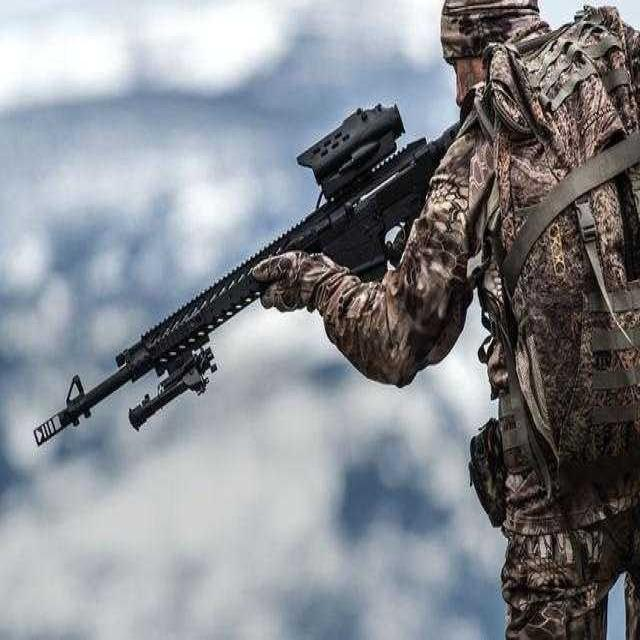heavyweapon: (27, 63, 469, 473)
